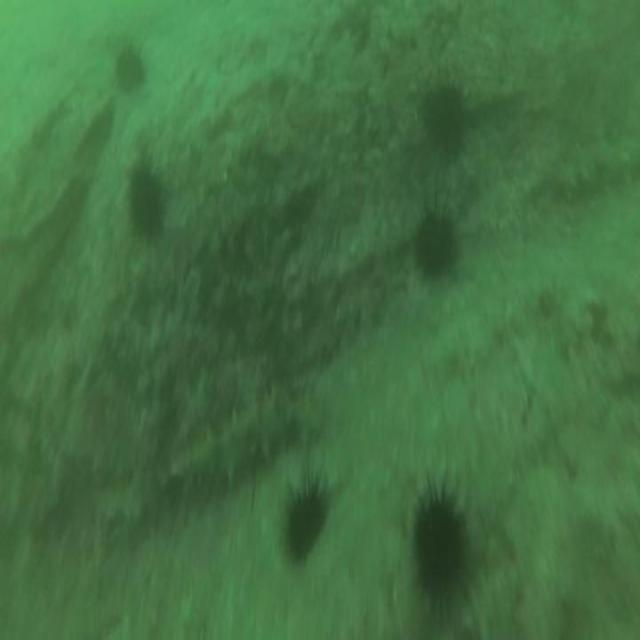holothurian: (170, 386, 290, 493)
starfish: (413, 499, 467, 591), (420, 82, 464, 155), (413, 208, 459, 276), (126, 166, 163, 235), (287, 491, 325, 558), (113, 52, 142, 90)
